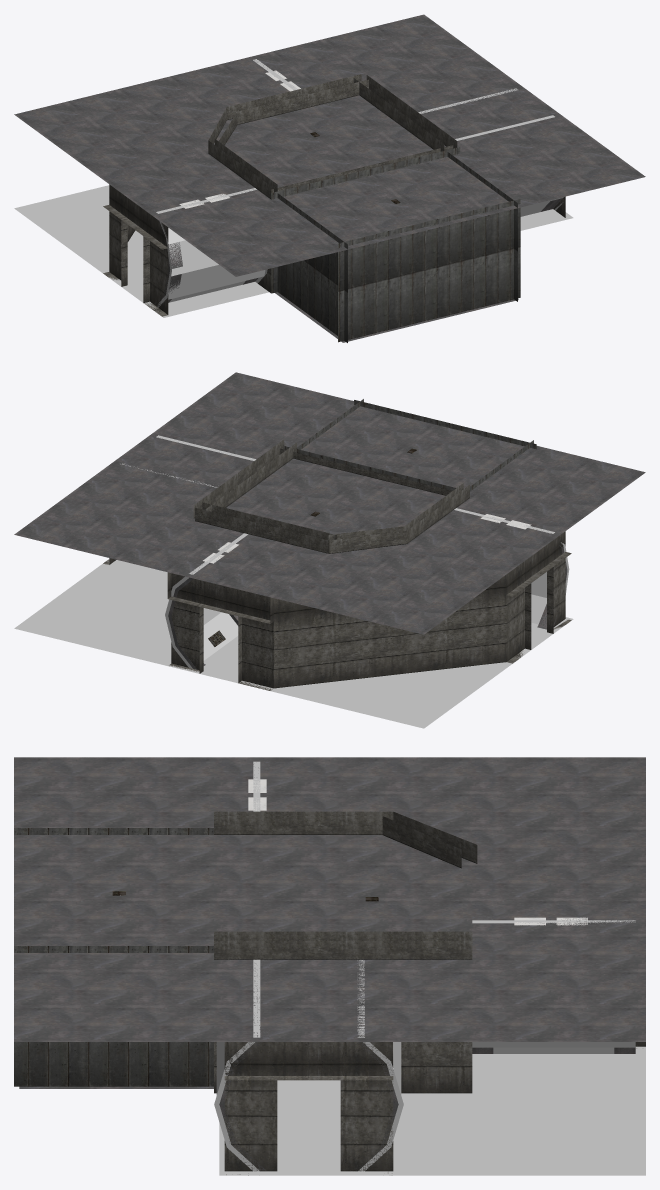
File: HC_cont3_966.obj
3 renders of one model, top to bottom at view 1: azimuth 30°, elevation 25°; view 2: azimuth 150°, elevation 25°; view 3: azimuth 270°, elevation 25°, orthographic. The views are drawn at different scales.
Parts seen in each view (by area): view 1: HC_cont3_966; view 2: HC_cont3_966; view 3: HC_cont3_966.
Boxes of the visible parts, <box> form: HC_cont3_966: <box>14,14,645,342</box>; HC_cont3_966: <box>14,372,645,728</box>; HC_cont3_966: <box>14,757,645,1175</box>.
Bounding box in the file's own units: 20.48 × 5.12 × 19.2.
